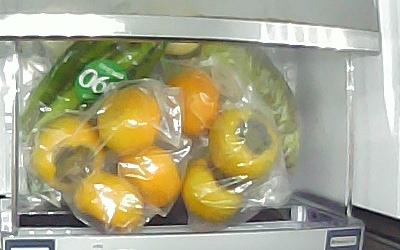persimmon_vinyl: (30, 116, 106, 192), (210, 109, 281, 183), (181, 158, 247, 223), (98, 89, 162, 154), (116, 146, 181, 208), (163, 72, 220, 139), (76, 172, 143, 227)
